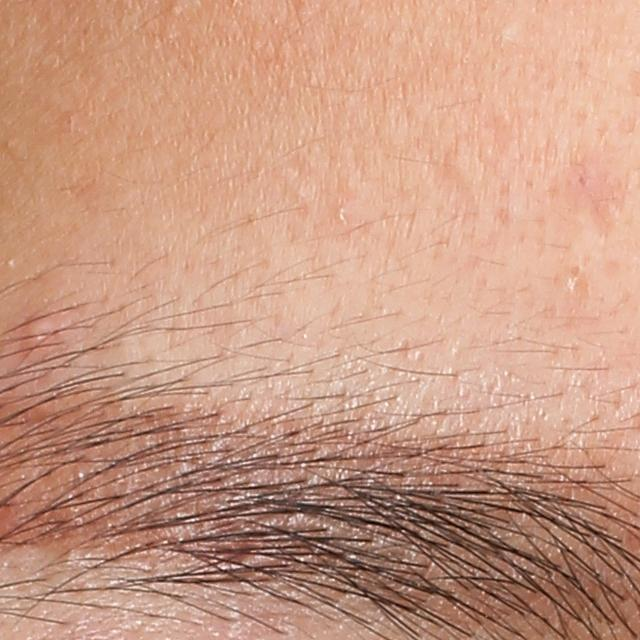comedo: (494, 25, 517, 48), (563, 272, 584, 296), (335, 204, 354, 225)
